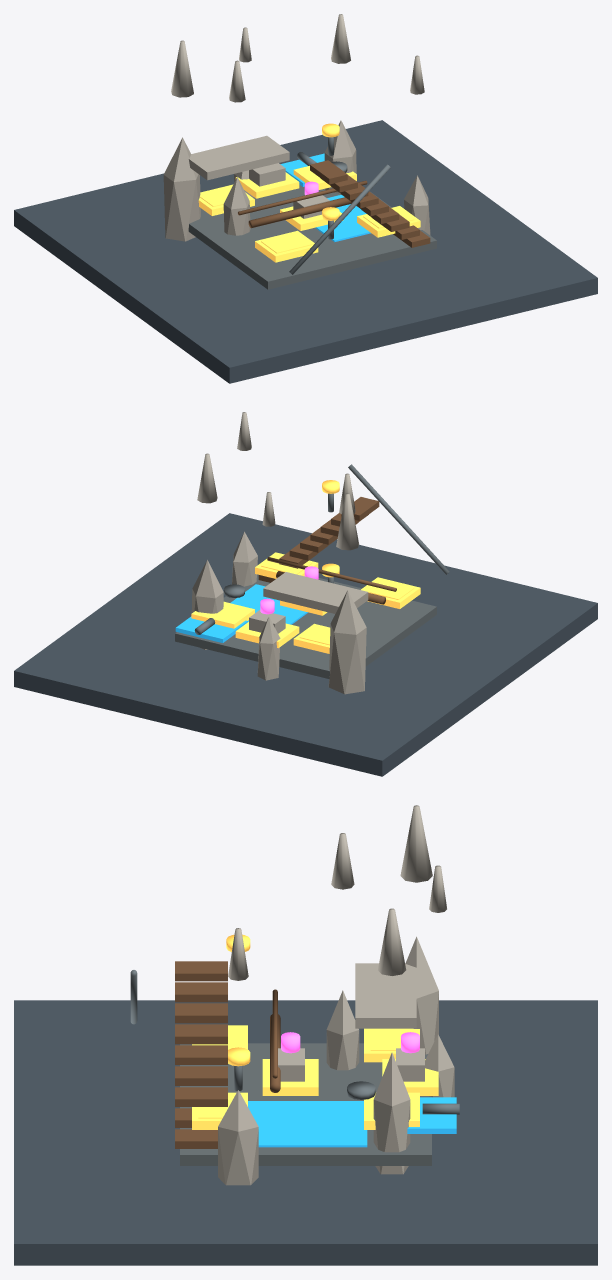
3 views of the same model, one above another, from view 1: azimuth 30°, elevation 25°; view 2: azimuth 150°, elevation 25°; view 3: azimuth 270°, elevation 25° (orthographic). The views are drawn at different scales.
Parts seen in each view (by area): view 1: ProfileGround.008, NaturalFloor_visual_cavern, CavernWallRock_visual_cavern_0, CavernLedge_visual_cavern, CavernWallRock_visual_cavern_1, CavernPool_visual_cavern, CavernWallRock_visual_cavern_3, CavernWallRock_visual_cavern_2, CavernBridge_visual_cavern, CavernStalactite_visual_cavern_0, StairRail_0.005, Room_secret_5 (+8 smaller); view 2: ProfileGround.008, NaturalFloor_visual_cavern, CavernWallRock_visual_cavern_0, CavernLedge_visual_cavern, CavernWallRock_visual_cavern_2, CavernWallRock_visual_cavern_4, CavernWallRock_visual_cavern_3, CavernPool_visual_cavern, Room_underground_lake_3, CavernStalactite_visual_cavern_0, WaterBasin_3, StairRail_0.005 (+6 smaller); view 3: ProfileGround.008, NaturalFloor_visual_cavern, CavernPool_visual_cavern, CavernLedge_visual_cavern, CavernWallRock_visual_cavern_3, CavernWallRock_visual_cavern_2, CavernWallRock_visual_cavern_0, CavernWallRock_visual_cavern_1, CavernStalactite_visual_cavern_0, Room_shrine_4, CavernStalactite_visual_cavern_2, CavernWallRock_visual_cavern_4 (+17 smaller).
Part boxes in pixels (x1=…): ProfileGround.008: x1=14, y1=120, x2=597, y2=383; NaturalFloor_visual_cavern: x1=188, y1=185, x2=436, y2=289; CavernWallRock_visual_cavern_0: x1=163, y1=137, x2=200, y2=241; CavernLedge_visual_cavern: x1=188, y1=135, x2=289, y2=180; CavernWallRock_visual_cavern_1: x1=223, y1=177, x2=250, y2=235; CavernPool_visual_cavern: x1=315, y1=194, x2=370, y2=242; CavernWallRock_visual_cavern_3: x1=404, y1=175, x2=430, y2=235; CavernWallRock_visual_cavern_2: x1=324, y1=120, x2=356, y2=193; CavernBridge_visual_cavern: x1=248, y1=197, x2=351, y2=228; CavernStalactite_visual_cavern_0: x1=171, y1=40, x2=193, y2=97; StairRail_0.005: x1=289, y1=164, x2=390, y2=274; Room_secret_5: x1=235, y1=172, x2=299, y2=198; ProfileGround.008: x1=14, y1=513, x2=597, y2=776; NaturalFloor_visual_cavern: x1=175, y1=574, x2=436, y2=679; CavernWallRock_visual_cavern_0: x1=328, y1=590, x2=366, y2=694; CavernLedge_visual_cavern: x1=263, y1=572, x2=368, y2=613; CavernWallRock_visual_cavern_2: x1=191, y1=560, x2=223, y2=649; CavernWallRock_visual_cavern_4: x1=257, y1=617, x2=280, y2=680; CavernWallRock_visual_cavern_3: x1=232, y1=531, x2=257, y2=586; CavernPool_visual_cavern: x1=230, y1=584, x2=308, y2=624; Room_underground_lake_3: x1=191, y1=601, x2=254, y2=628; CavernStalactite_visual_cavern_0: x1=336, y1=493, x2=358, y2=550; WaterBasin_3: x1=175, y1=616, x2=247, y2=642; StairRail_0.005: x1=348, y1=464, x2=449, y2=574; ProfileGround.008: x1=14, y1=1000, x2=597, y2=1265; NaturalFloor_visual_cavern: x1=180, y1=1043, x2=431, y2=1165; CavernPool_visual_cavern: x1=248, y1=1101, x2=367, y2=1147; CavernLedge_visual_cavern: x1=355, y1=963, x2=416, y2=1028; CavernWallRock_visual_cavern_3: x1=218, y1=1090, x2=258, y2=1185; CavernWallRock_visual_cavern_2: x1=373, y1=1052, x2=410, y2=1174; CavernWallRock_visual_cavern_0: x1=405, y1=936, x2=438, y2=1054; CavernWallRock_visual_cavern_1: x1=326, y1=990, x2=359, y2=1070; CavernStalactite_visual_cavern_0: x1=400, y1=805, x2=432, y2=882; Room_shrine_4: x1=262, y1=1059, x2=318, y2=1095; CavernStalactite_visual_cavern_2: x1=378, y1=908, x2=406, y2=975; CavernWallRock_visual_cavern_4: x1=425, y1=1034, x2=454, y2=1097.
Size of the model in its own units: 4.8 by 2.89 by 4.86.
